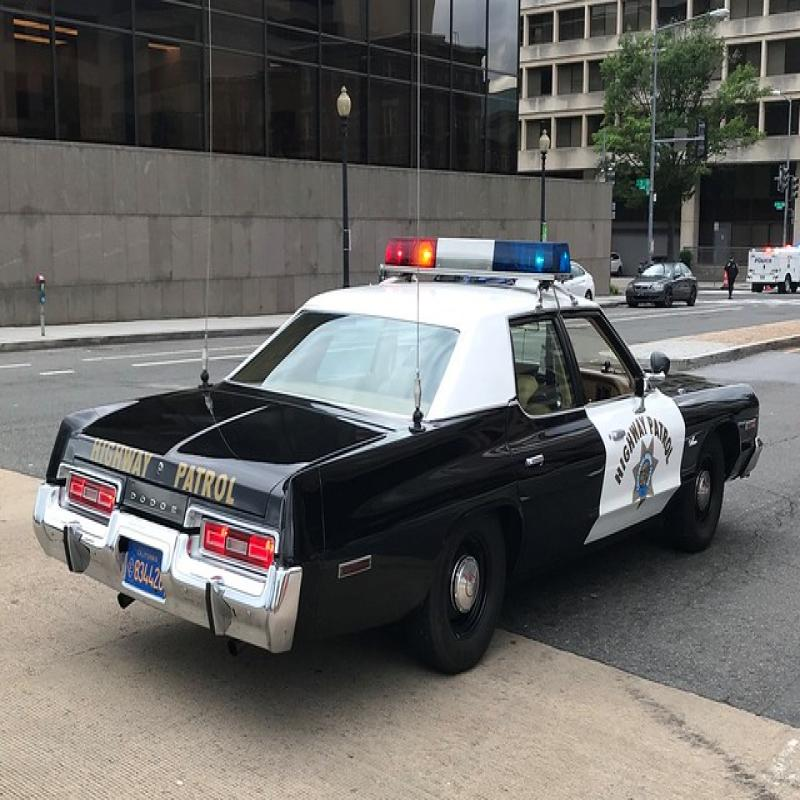AmbulanceSiren: (379, 217, 567, 286)
